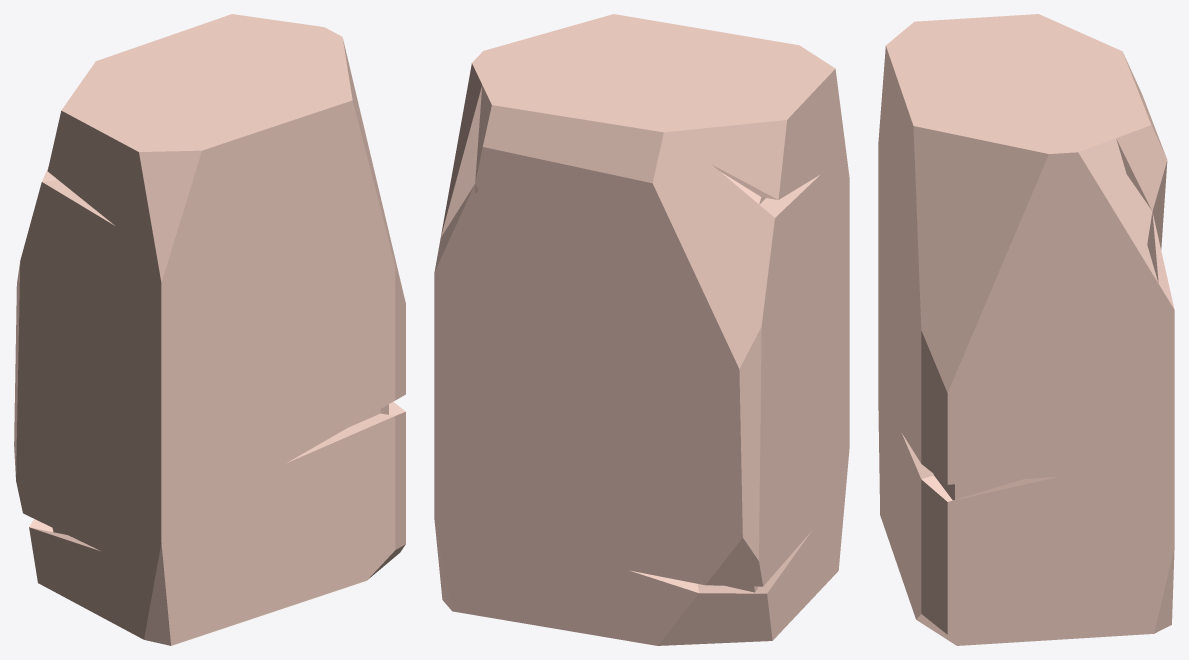
File: Stone 9.fbx
3 renders of one model, left to right at view 1: azimuth 30°, elevation 25°; view 2: azimuth 150°, elevation 25°; view 3: azimuth 270°, elevation 25°, orthographic. The views are drawn at different scales.
Parts seen in each view (by area): view 1: Stone 9; view 2: Stone 9; view 3: Stone 9.
Boxes of the visible parts, x1=… form: Stone 9: x1=14, y1=14, x2=405, y2=645; Stone 9: x1=434, y1=14, x2=849, y2=645; Stone 9: x1=878, y1=14, x2=1174, y2=645.
Size of the model in its own units: 130 by 196 by 108.
